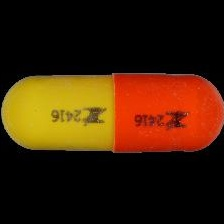0440-8505: (0, 0, 224, 224)
